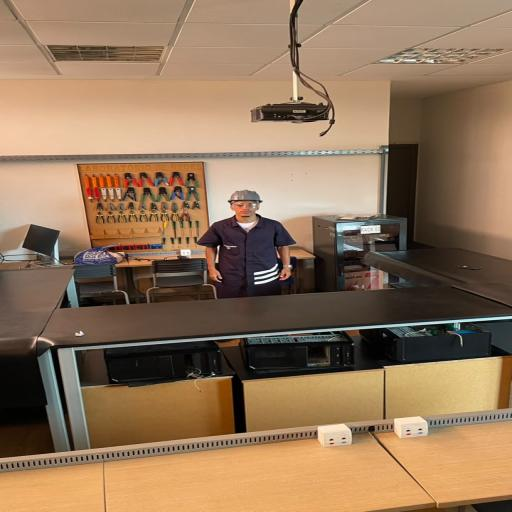CAPACETE: (228, 190, 262, 203)
OCULOS: (230, 202, 260, 208)
